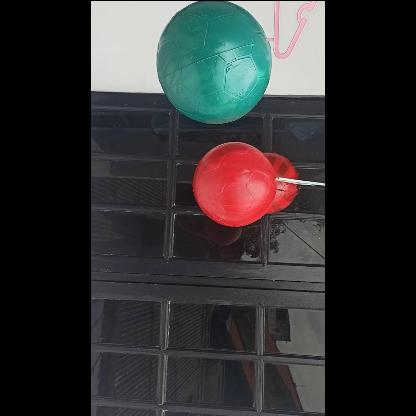red_ball: (192, 143, 276, 226)
